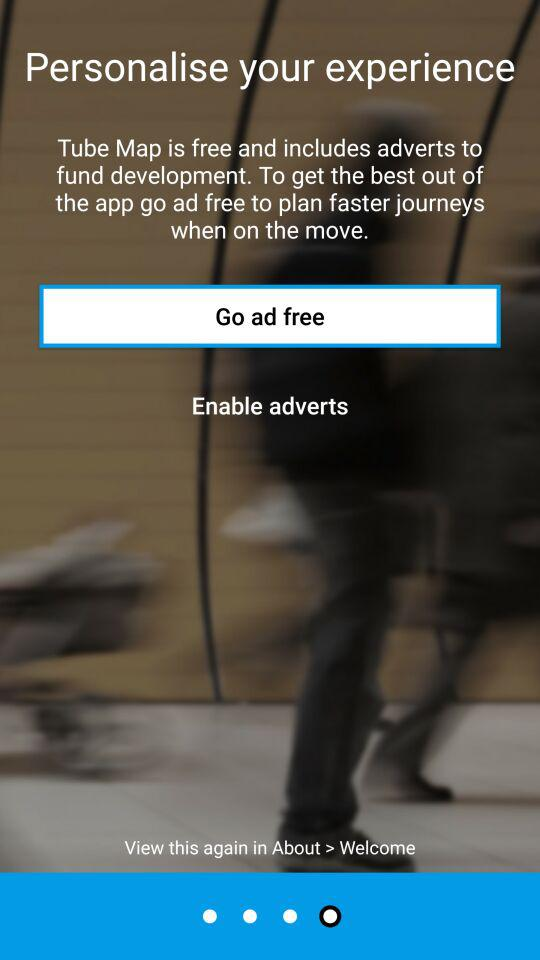BackgroundImage: (1, 1, 540, 872)
PageIndicator: (201, 903, 343, 929)
Text: (55, 138, 486, 242), (26, 50, 516, 92), (124, 839, 417, 860), (191, 395, 350, 417)
TextButton: (39, 284, 502, 349)
